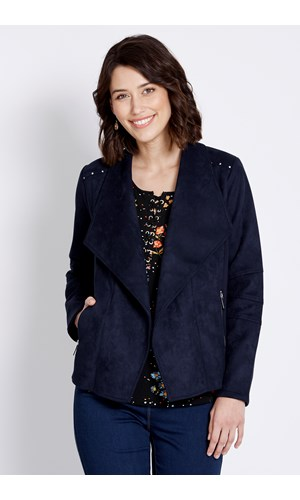F_W_suit jacket: (64, 143, 265, 398)
